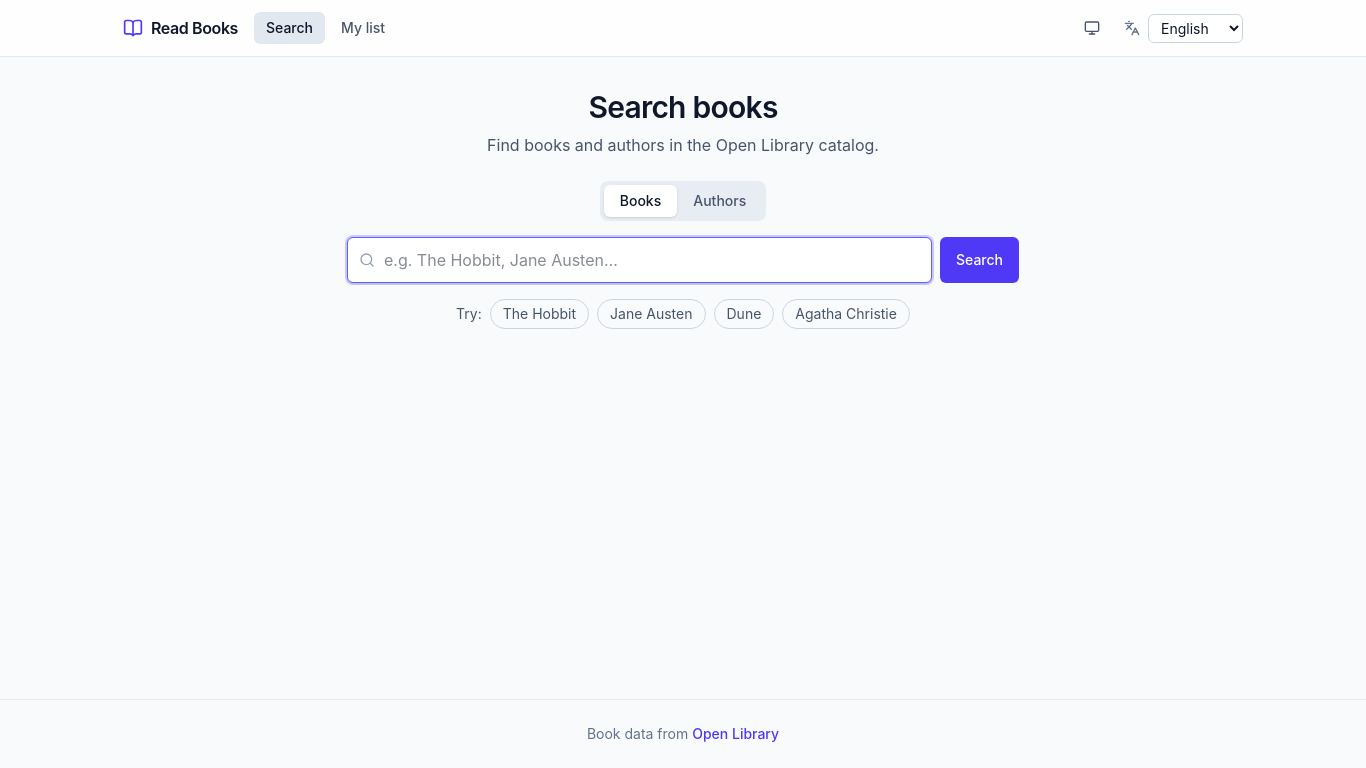
Test: language switching › switches to German, persists the choice and sets <html lang>
Select "Deutsch" in the dropdown named "Language": (1196, 28) left=1148, top=14, right=1243, bottom=42
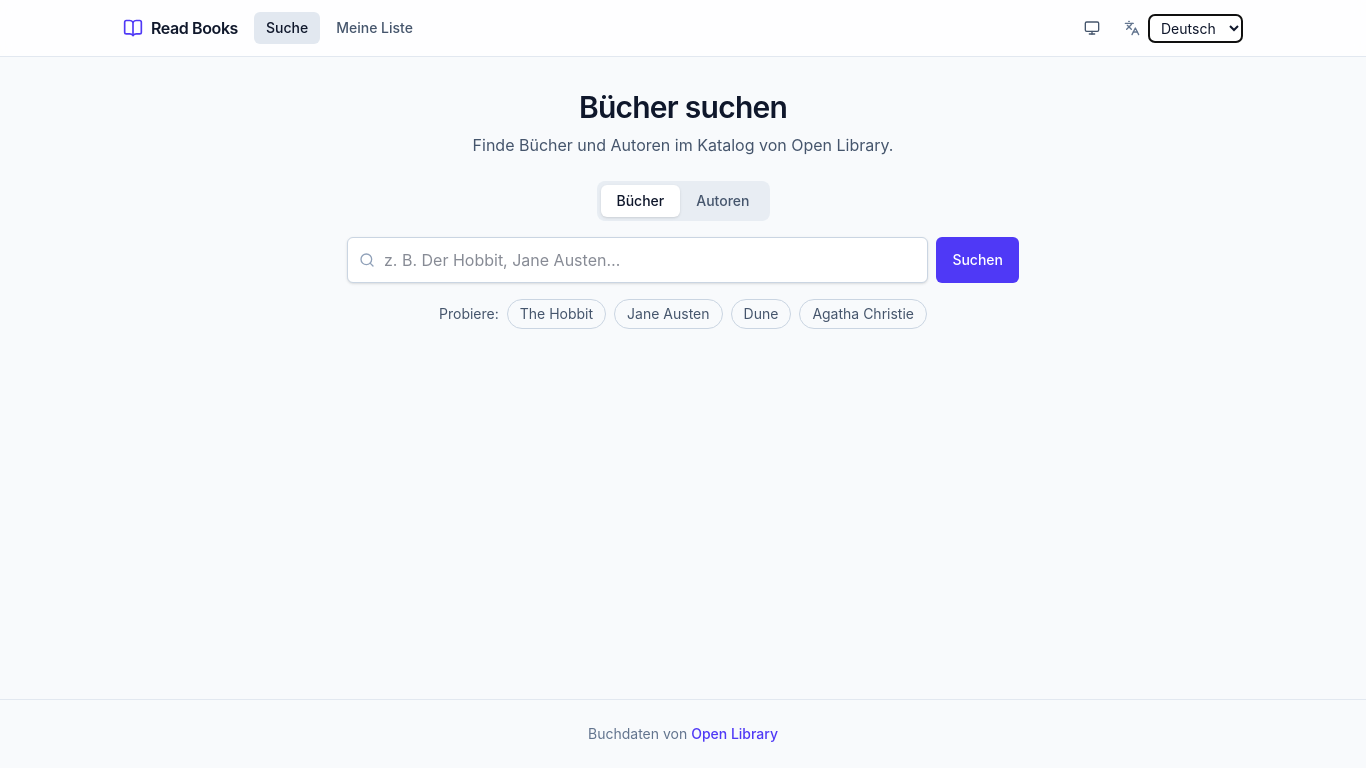
Expected: the heading "Bücher suchen" is shown, left=579, top=89, right=787, bottom=125
